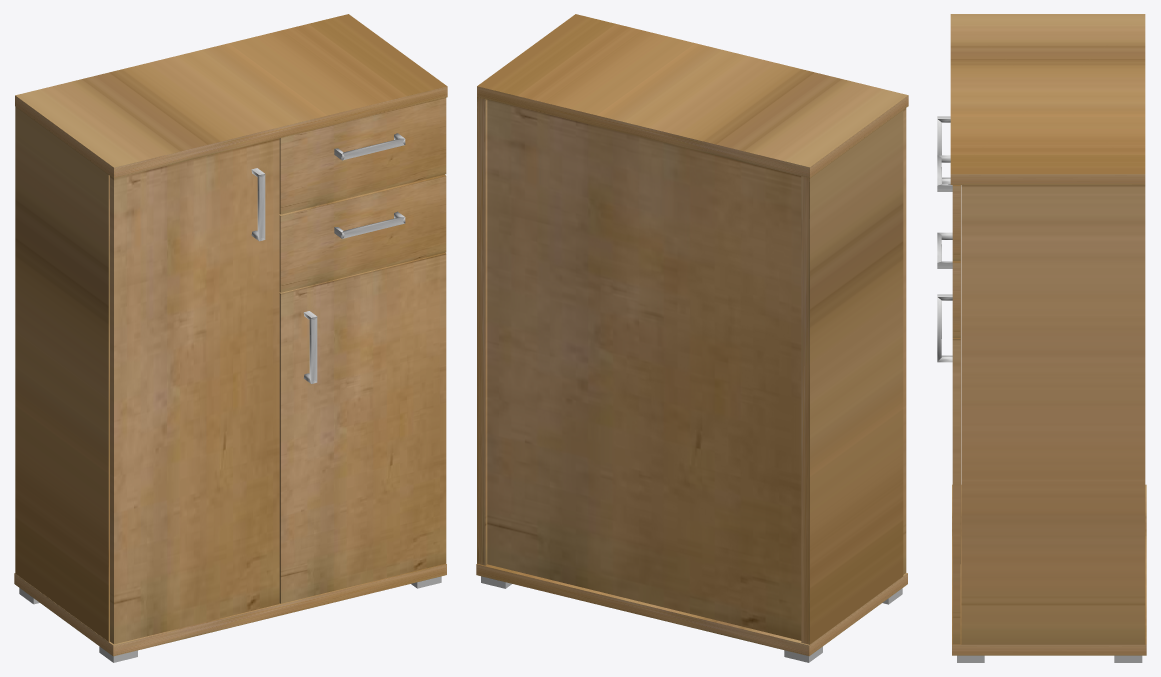
The model's file is sweethome3d-contributions-shoe-cabinet-335.glb.
3 renders of one model, left to right at view 1: azimuth 30°, elevation 25°; view 2: azimuth 150°, elevation 25°; view 3: azimuth 270°, elevation 25°, orthographic.
Visible parts, largest first — view 1: Cube_4_1_8, Cube_4_7, Cube_2_2, Cube_1_1_4, Cube_3_1_6, Cube_3_5, Cube_1_1, Poignee_3_16, Poignee_2_15, Poignee_1_14, Poignee_9; view 2: Cube_7_17, Cube_2_2, Cube_1_1_4, Cube_1_1, Cube_2_1_3, Cube_4_1_8; view 3: Cube_2_1_3, Cube_1_1_4, Cube_1_1, Cube_4_7, Cube_3_1_6, Cube_3_5, Poignee_2_15, Cube_4_1_8, Poignee_9, Poignee_1_14, Poignee_3_16.
Boxes of the visible parts, bbox=[...] form: Cube_4_1_8: bbox=[110, 138, 279, 644]; Cube_4_7: bbox=[279, 252, 446, 603]; Cube_2_2: bbox=[15, 106, 109, 641]; Cube_1_1_4: bbox=[15, 14, 447, 178]; Cube_3_1_6: bbox=[279, 174, 446, 292]; Cube_3_5: bbox=[279, 97, 446, 214]; Cube_1_1: bbox=[14, 563, 446, 656]; Poignee_3_16: bbox=[251, 168, 265, 241]; Poignee_2_15: bbox=[303, 311, 317, 383]; Poignee_1_14: bbox=[334, 133, 405, 160]; Poignee_9: bbox=[334, 211, 405, 238]; Cube_7_17: bbox=[487, 99, 801, 640]; Cube_2_2: bbox=[801, 110, 903, 644]; Cube_1_1_4: bbox=[477, 14, 908, 178]; Cube_1_1: bbox=[476, 563, 907, 656]; Cube_2_1_3: bbox=[477, 97, 487, 565]; Cube_4_1_8: bbox=[903, 108, 906, 574]; Cube_2_1_3: bbox=[961, 185, 1145, 644]; Cube_1_1_4: bbox=[950, 14, 1145, 184]; Cube_1_1: bbox=[952, 484, 1146, 655]; Cube_4_7: bbox=[952, 338, 960, 644]; Cube_3_1_6: bbox=[952, 261, 960, 338]; Cube_3_5: bbox=[952, 185, 960, 261]; Poignee_2_15: bbox=[937, 294, 952, 362]; Cube_4_1_8: bbox=[960, 185, 960, 563]; Poignee_9: bbox=[937, 232, 952, 268]; Poignee_1_14: bbox=[937, 155, 952, 191]; Poignee_3_16: bbox=[937, 116, 950, 184].
Size of the model in its own units: 71.7 by 102 by 39.57.
Materials: 4 (3 with a texture image).
